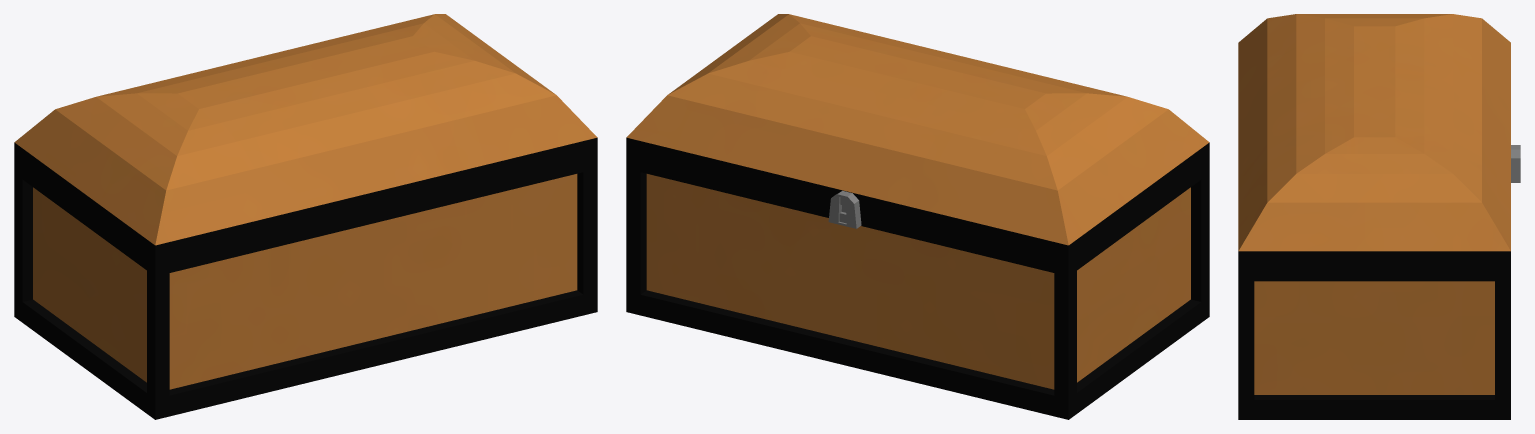
Rendered from Chest_2.fbx.
3 views of the same model, side by side, from view 1: azimuth 30°, elevation 25°; view 2: azimuth 150°, elevation 25°; view 3: azimuth 270°, elevation 25° (orthographic). The views are drawn at different scales.
Visible parts, largest first — view 1: Chest 2; view 2: Chest 2; view 3: Chest 2.
Boxes of the visible parts, x1,y1,x2,y2 form: Chest 2: (14,14,597,419); Chest 2: (626,14,1209,419); Chest 2: (1238,14,1520,419).
Size of the model in its own units: 105 by 54.77 by 59.88.
